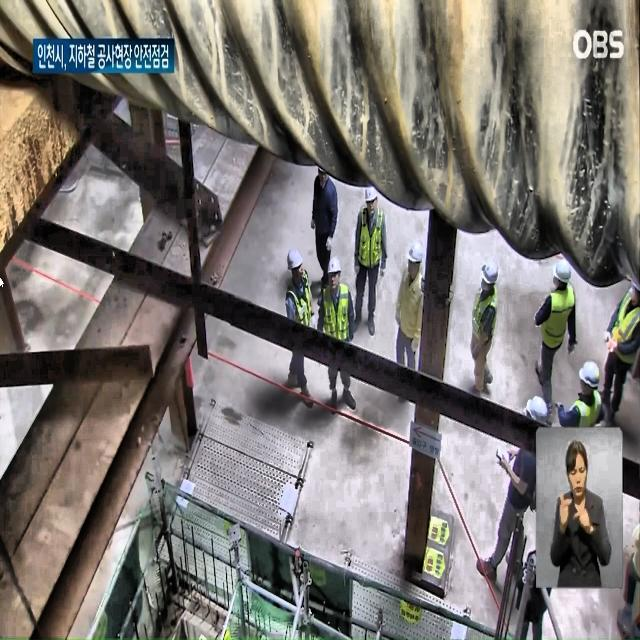safety_helmet: (519, 381, 549, 445), (406, 239, 440, 292), (577, 353, 602, 413), (547, 259, 580, 302), (475, 255, 501, 309), (360, 182, 391, 216), (285, 242, 309, 272), (325, 256, 343, 286)
safety_jacket: (538, 295, 586, 378), (470, 294, 514, 382), (608, 292, 640, 390), (280, 288, 314, 361), (326, 295, 360, 358), (357, 224, 385, 271)
